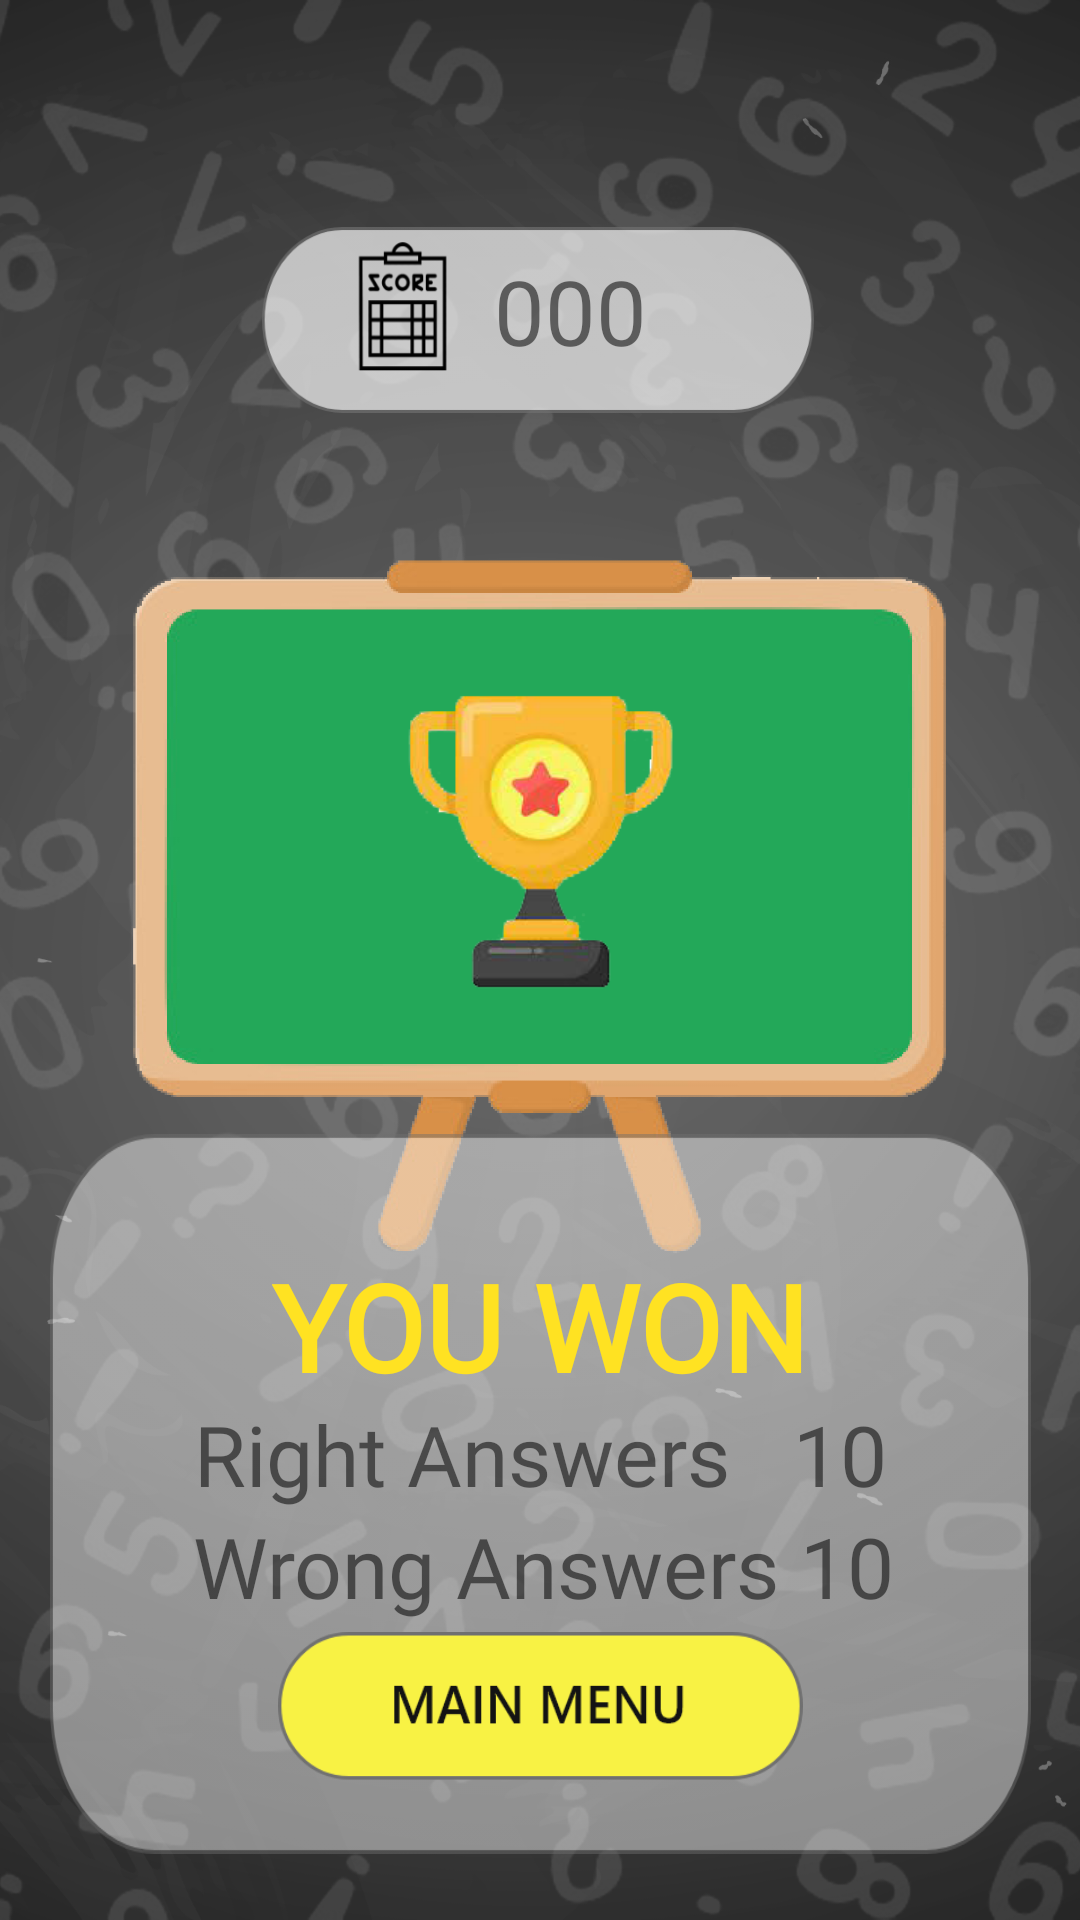

Screen size 1080 × 1920. Icon name, then its box in pixels as (x1, y1, x2, y2):
cup: (409, 696, 673, 987)
